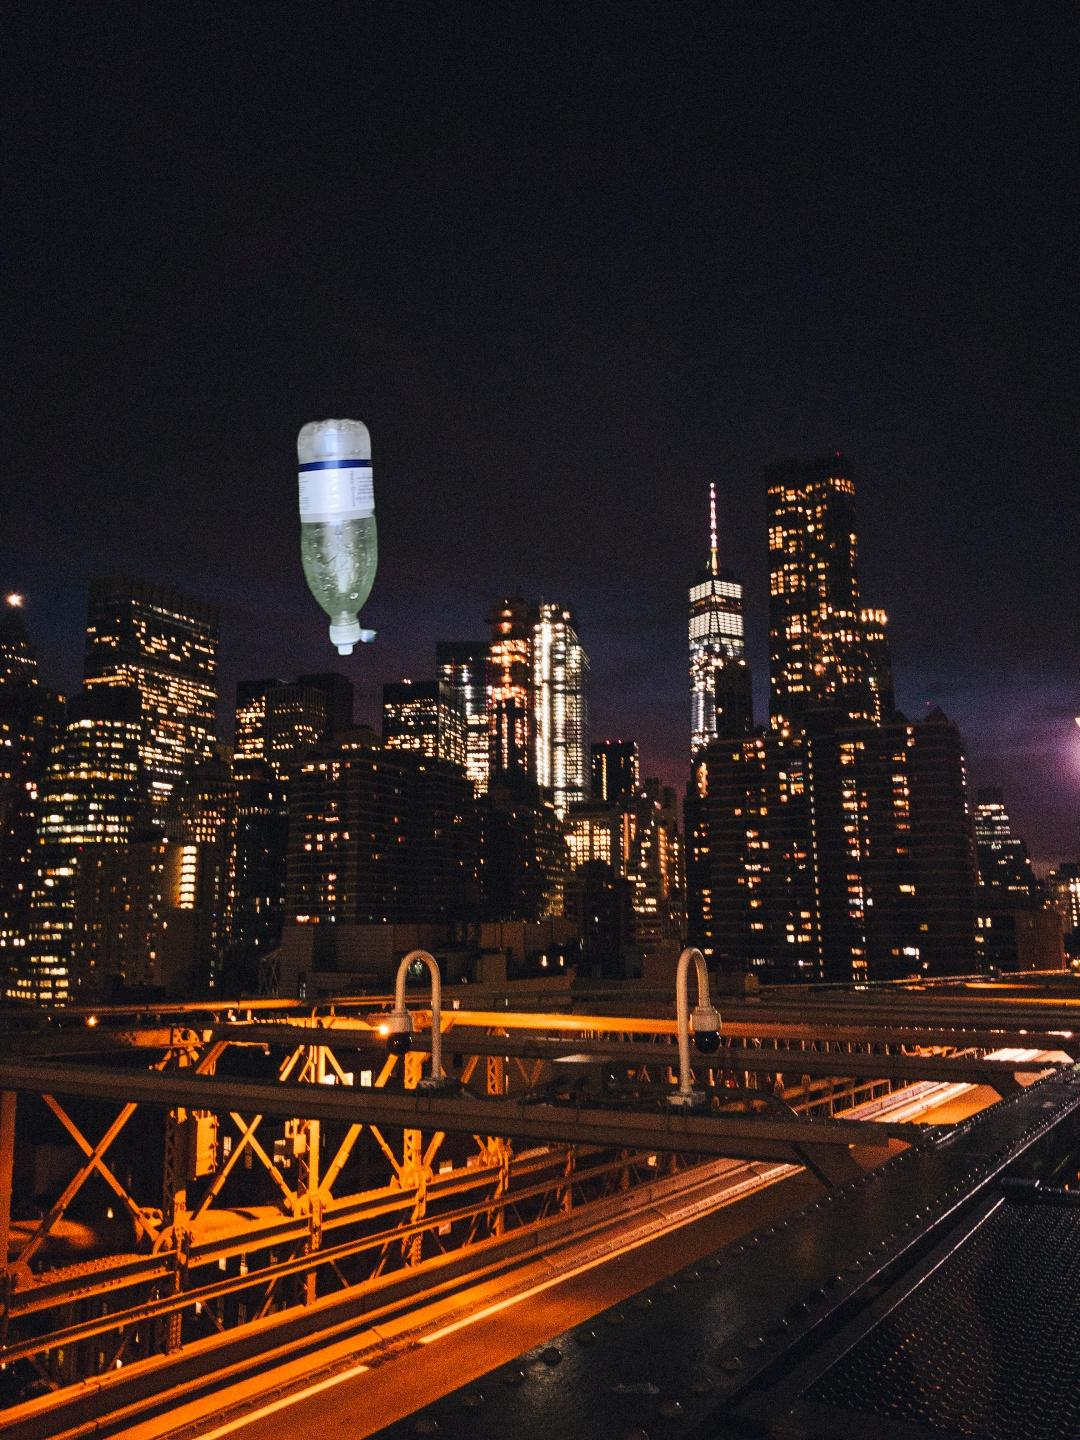plastic-bottles: (292, 412, 383, 662)
trashbox-cardboard: (419, 1411, 987, 1440)
